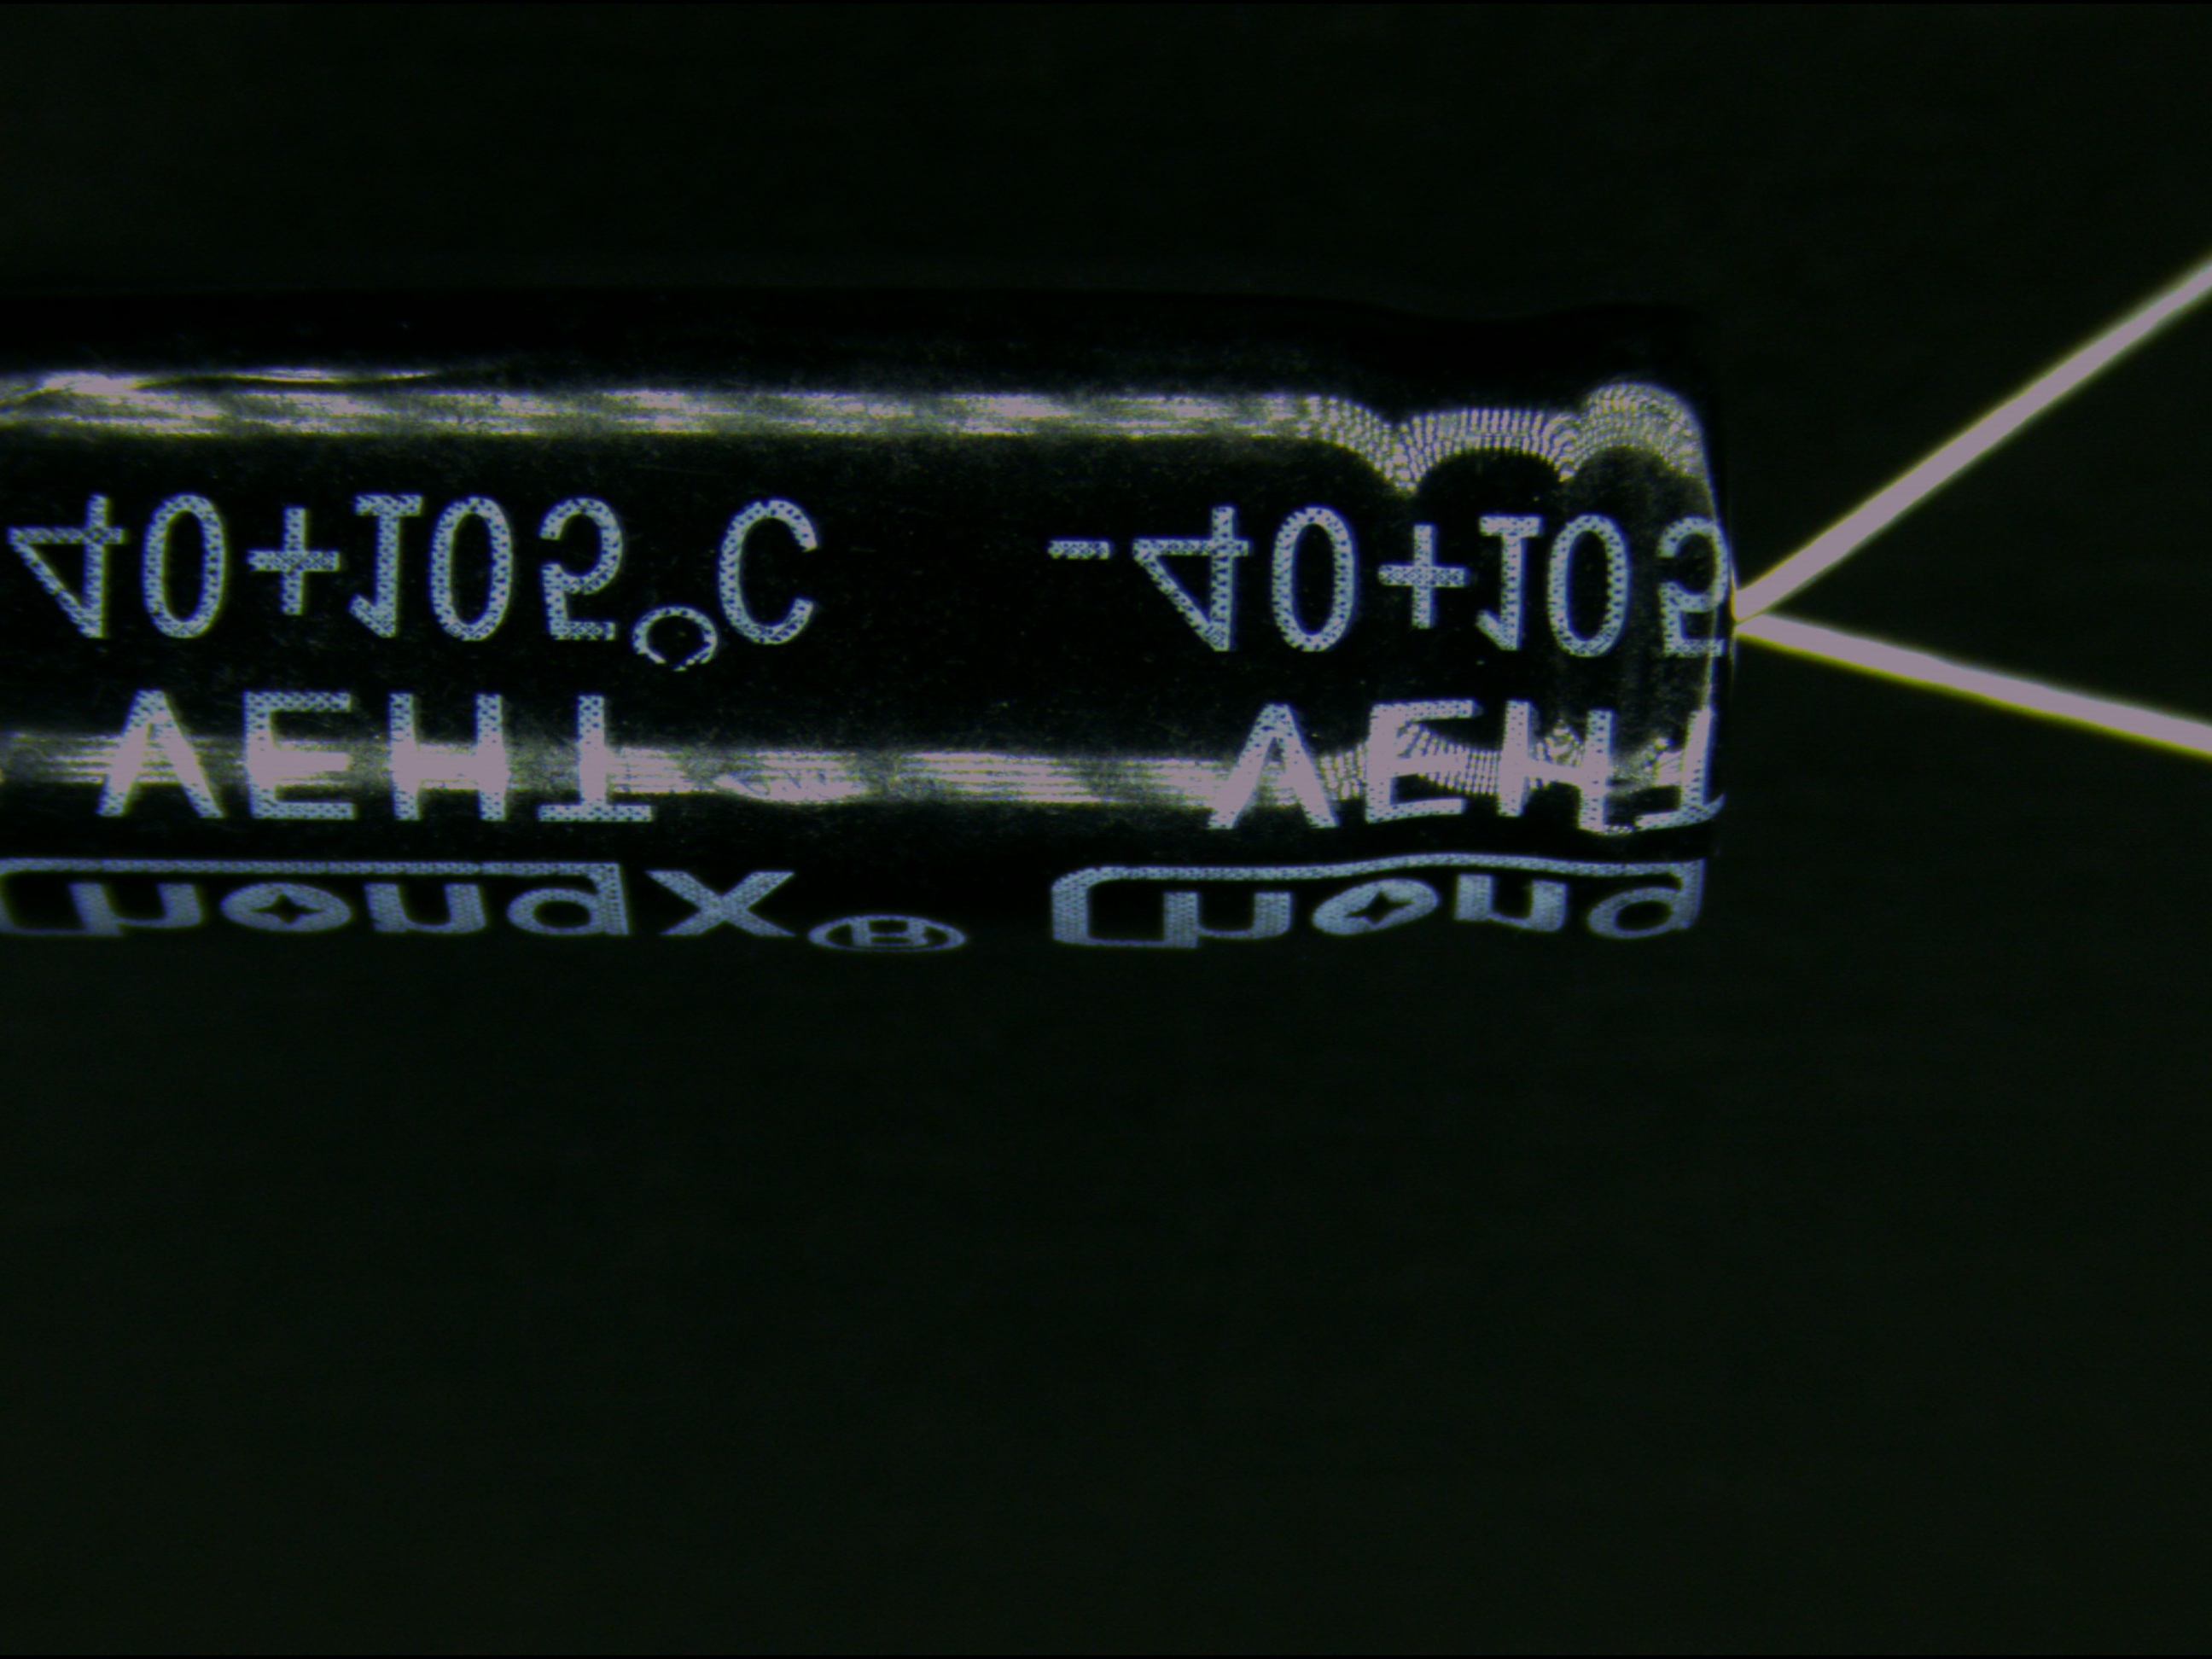c3: (0, 298, 2125, 950)
